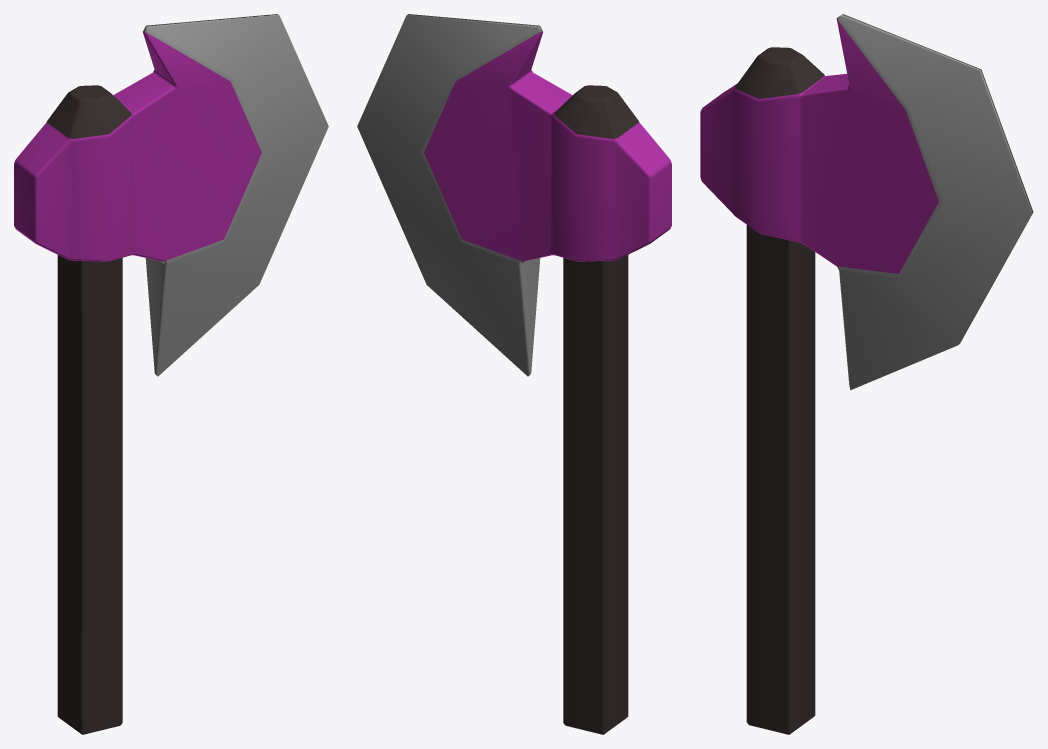
Rendered from axe_1.FBX.
3 renders of one model, left to right at view 1: azimuth 30°, elevation 25°; view 2: azimuth 150°, elevation 25°; view 3: azimuth 330°, elevation 25°, orthographic. The views are drawn at different scales.
Parts seen in each view (by area): view 1: axe_1; view 2: axe_1; view 3: axe_1.
Boxes of the visible parts, box(x1,y1,x2,y2) form: axe_1: box(14, 14, 328, 734); axe_1: box(357, 14, 671, 734); axe_1: box(700, 14, 1033, 734).
Bounding box in the file's own units: 1.28 × 2.74 × 0.305.
